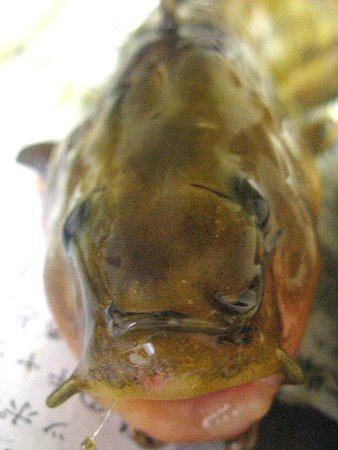gonzui: (20, 8, 323, 448)
